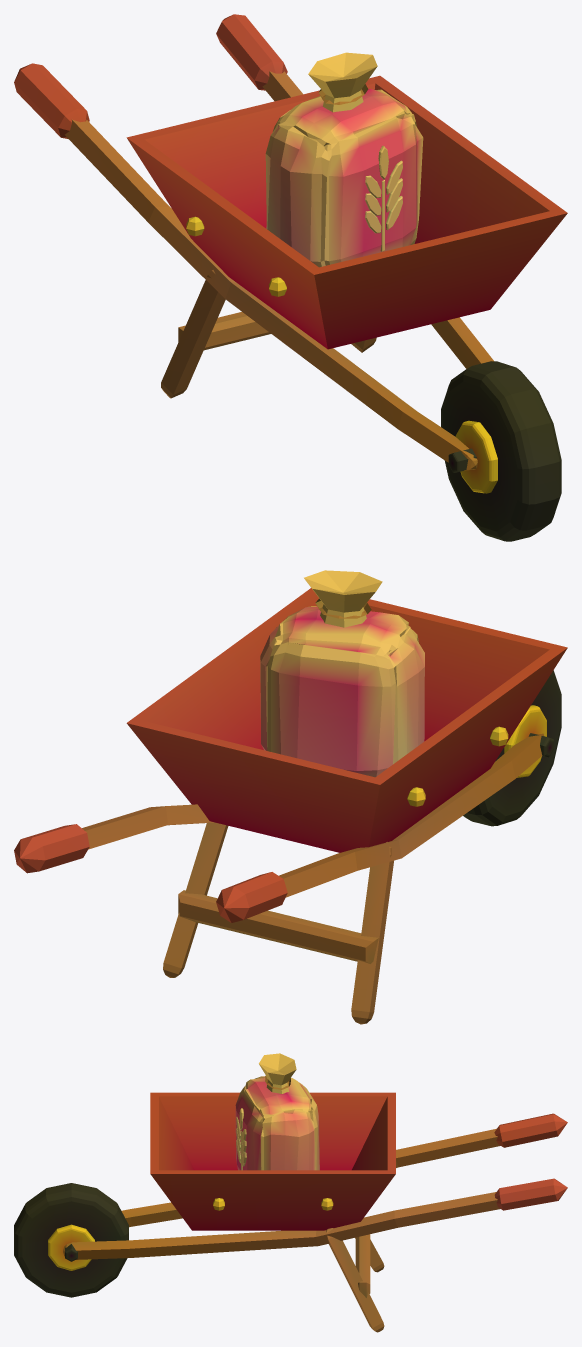
The model's file is Farm_Wheelbarrow_Grain.glb.
3 renders of one model, top to bottom at view 1: azimuth 30°, elevation 25°; view 2: azimuth 150°, elevation 25°; view 3: azimuth 270°, elevation 25°, orthographic. The views are drawn at different scales.
Visible parts, largest first — view 1: Farm_Wheelbarrow_Grain; view 2: Farm_Wheelbarrow_Grain; view 3: Farm_Wheelbarrow_Grain.
Boxes of the visible parts, x1=… form: Farm_Wheelbarrow_Grain: x1=14, y1=14, x2=567, y2=541; Farm_Wheelbarrow_Grain: x1=14, y1=570, x2=567, y2=1024; Farm_Wheelbarrow_Grain: x1=14, y1=1053, x2=567, y2=1332.
Size of the model in its own units: 0.78 by 1.07 by 2.25.
